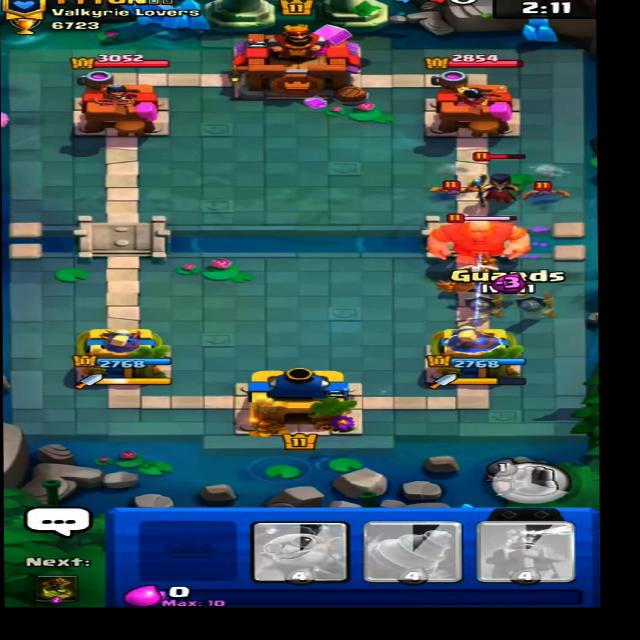Bat: (516, 179, 569, 202), (423, 175, 474, 198)
Giant: (427, 210, 534, 269)
Nightwitch: (465, 156, 537, 204)
